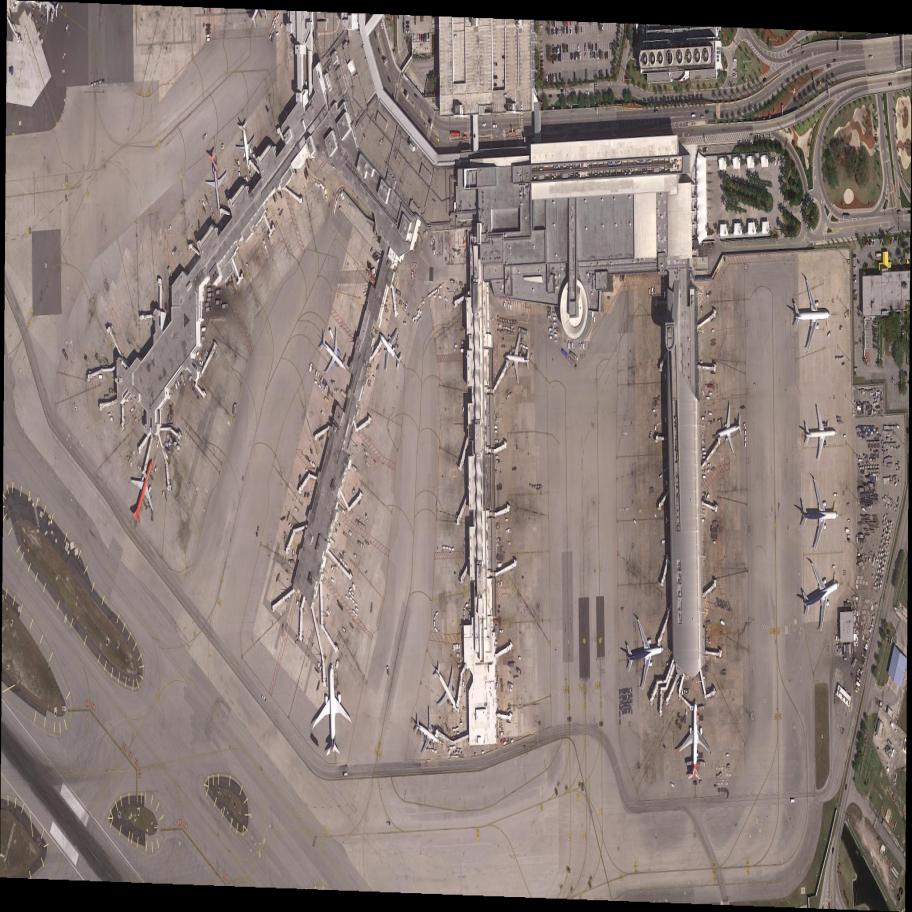large-vehicle: (514, 666, 523, 677), (449, 132, 462, 139), (506, 682, 515, 689), (705, 492, 711, 502), (508, 662, 515, 668), (843, 214, 850, 219)
plane: (794, 544, 847, 640), (416, 650, 477, 729), (119, 446, 169, 534), (311, 662, 354, 758), (367, 314, 414, 386), (310, 318, 355, 393), (625, 613, 666, 692), (800, 476, 839, 554), (677, 700, 711, 782), (793, 278, 830, 350), (408, 701, 445, 767), (202, 148, 232, 218), (806, 405, 837, 465), (714, 399, 743, 459), (503, 328, 532, 387), (233, 117, 258, 175)
small-vehicle: (851, 657, 859, 669), (700, 145, 710, 154), (860, 506, 869, 515), (394, 288, 403, 297), (347, 202, 355, 212), (826, 330, 834, 340), (260, 694, 268, 703), (64, 23, 70, 34), (375, 363, 381, 374), (865, 262, 870, 275), (719, 619, 727, 627), (668, 781, 676, 789), (201, 133, 209, 141), (373, 254, 381, 262), (335, 520, 342, 529), (371, 251, 378, 260), (653, 511, 659, 521), (871, 862, 877, 872), (264, 104, 270, 114), (710, 466, 717, 474), (815, 80, 823, 87), (434, 137, 442, 144), (347, 530, 354, 538), (701, 387, 706, 398), (178, 376, 183, 387), (707, 243, 713, 252), (676, 678, 682, 687), (648, 431, 653, 441), (174, 381, 179, 391), (341, 509, 348, 516), (761, 76, 768, 83), (375, 258, 382, 265), (332, 531, 339, 538), (413, 93, 420, 100), (422, 122, 429, 129), (664, 661, 672, 667), (309, 361, 313, 373), (329, 380, 337, 386), (74, 404, 79, 413), (377, 46, 382, 55), (889, 236, 893, 247), (404, 302, 408, 313), (684, 688, 690, 695), (234, 403, 237, 417), (658, 473, 664, 480), (387, 75, 392, 83), (831, 847, 835, 856), (272, 194, 276, 203), (870, 238, 874, 247), (552, 321, 558, 327), (506, 529, 512, 535), (374, 30, 378, 39), (661, 741, 666, 748), (334, 523, 339, 530), (507, 707, 512, 714), (894, 235, 897, 246), (594, 313, 597, 324), (898, 235, 901, 246), (279, 191, 283, 199), (868, 239, 872, 247), (708, 392, 713, 398), (707, 412, 713, 417), (856, 535, 859, 545), (733, 57, 738, 63), (386, 821, 392, 826), (826, 64, 832, 69), (463, 135, 468, 141), (370, 247, 375, 253), (333, 527, 338, 533), (492, 124, 498, 129), (503, 300, 506, 310), (584, 44, 587, 54), (683, 715, 686, 724), (777, 157, 780, 166), (774, 157, 777, 166), (177, 380, 180, 389), (872, 240, 875, 249), (599, 52, 602, 61), (604, 52, 607, 61), (413, 34, 416, 43), (411, 271, 414, 280), (606, 51, 609, 60), (585, 69, 588, 78), (550, 73, 553, 82), (577, 53, 580, 62), (572, 53, 575, 62), (566, 44, 569, 53), (562, 44, 565, 53), (552, 45, 555, 54), (559, 53, 562, 62), (708, 421, 713, 426), (661, 539, 666, 544), (733, 69, 738, 74), (801, 51, 806, 56), (832, 59, 837, 64), (853, 367, 858, 372), (853, 297, 858, 302), (888, 82, 893, 87), (570, 88, 575, 93), (866, 506, 872, 510), (707, 462, 711, 468), (845, 784, 848, 792), (651, 287, 654, 295), (366, 515, 369, 523), (365, 570, 369, 576), (880, 239, 883, 247), (867, 238, 870, 246), (868, 55, 874, 59), (462, 340, 466, 346), (497, 537, 501, 543), (426, 33, 429, 41), (600, 70, 603, 78), (609, 43, 612, 50), (595, 44, 598, 51), (725, 754, 730, 758), (712, 541, 717, 545), (702, 518, 706, 523), (846, 502, 850, 507), (702, 455, 706, 460), (701, 417, 706, 421), (705, 381, 707, 391), (705, 110, 710, 114), (791, 799, 796, 803), (692, 113, 696, 118), (554, 334, 559, 338), (568, 341, 570, 351), (572, 340, 574, 350), (579, 341, 581, 351), (706, 621, 711, 625), (700, 116, 705, 120), (548, 328, 553, 332), (344, 773, 349, 777), (733, 75, 738, 79), (833, 493, 838, 497), (853, 290, 857, 295), (853, 266, 857, 271), (853, 254, 857, 259), (457, 664, 462, 668), (499, 630, 504, 634), (456, 654, 461, 658), (406, 24, 410, 29), (428, 32, 430, 42), (406, 30, 410, 35), (547, 316, 552, 320), (540, 24, 544, 29), (494, 62, 498, 67), (494, 76, 499, 80), (502, 79, 506, 84), (552, 54, 554, 64), (556, 73, 558, 83), (649, 288, 651, 297), (865, 238, 867, 247), (415, 16, 417, 25), (421, 33, 423, 42), (574, 71, 576, 80), (599, 70, 601, 79), (606, 69, 608, 78), (510, 302, 512, 311), (588, 43, 590, 52), (576, 52, 578, 61), (558, 44, 560, 53), (554, 74, 556, 83), (552, 74, 554, 83), (843, 658, 847, 662), (840, 647, 842, 655), (554, 330, 558, 334), (554, 339, 558, 343), (570, 342, 572, 350), (583, 342, 585, 350), (654, 287, 656, 295), (703, 451, 707, 455), (892, 376, 894, 384), (853, 280, 857, 284), (853, 275, 857, 279), (897, 210, 901, 214), (550, 332, 554, 336), (497, 675, 499, 683), (497, 543, 501, 547), (496, 459, 500, 463), (570, 27, 572, 35), (561, 27, 563, 35), (590, 52, 592, 60), (592, 52, 594, 60), (594, 52, 596, 60), (453, 35, 457, 39), (406, 20, 410, 24), (423, 34, 425, 42), (419, 35, 421, 43), (417, 35, 419, 43), (602, 24, 604, 32), (546, 75, 548, 83), (540, 52, 544, 56), (559, 72, 561, 80), (502, 55, 506, 59), (521, 102, 523, 110), (504, 94, 508, 98), (482, 123, 486, 127), (585, 91, 589, 95), (508, 302, 510, 310), (548, 75, 550, 83), (592, 43, 594, 51), (578, 45, 580, 53), (579, 53, 581, 61), (574, 53, 576, 61), (570, 53, 572, 61), (556, 46, 558, 54), (554, 46, 556, 54), (558, 54, 560, 62), (556, 54, 558, 62), (554, 54, 556, 62), (707, 468, 710, 473), (702, 448, 707, 451), (654, 111, 659, 114), (561, 88, 564, 93), (548, 95, 553, 98), (499, 324, 502, 329), (685, 709, 687, 716), (559, 28, 561, 35), (557, 28, 559, 35), (598, 53, 600, 60), (612, 43, 614, 50), (706, 398, 710, 401), (581, 342, 583, 348), (508, 542, 511, 546), (495, 440, 499, 443), (540, 60, 544, 63), (541, 56, 544, 60), (494, 83, 497, 87), (581, 27, 583, 33), (565, 25, 566, 34), (425, 33, 426, 42), (557, 94, 560, 97), (491, 318, 494, 321), (540, 64, 543, 67), (560, 45, 561, 54), (567, 27, 568, 35), (554, 27, 555, 35), (599, 25, 600, 33), (563, 27, 564, 34), (556, 28, 557, 35), (552, 28, 553, 35)
